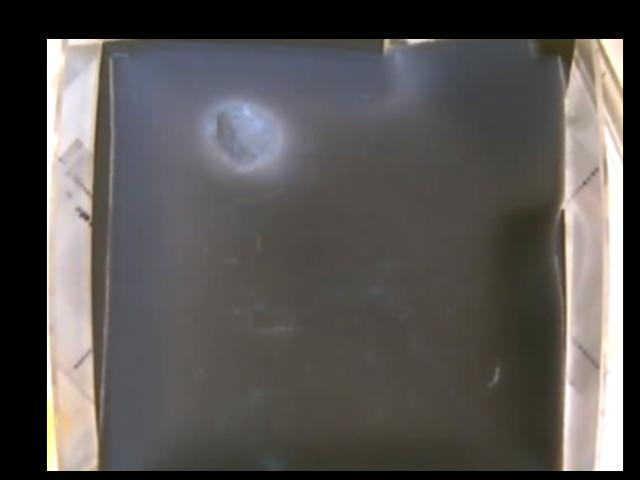Pebble: (210, 100, 280, 174)
